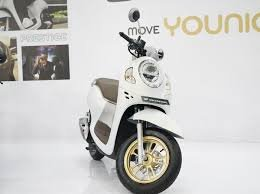motor: (83, 48, 188, 194)
